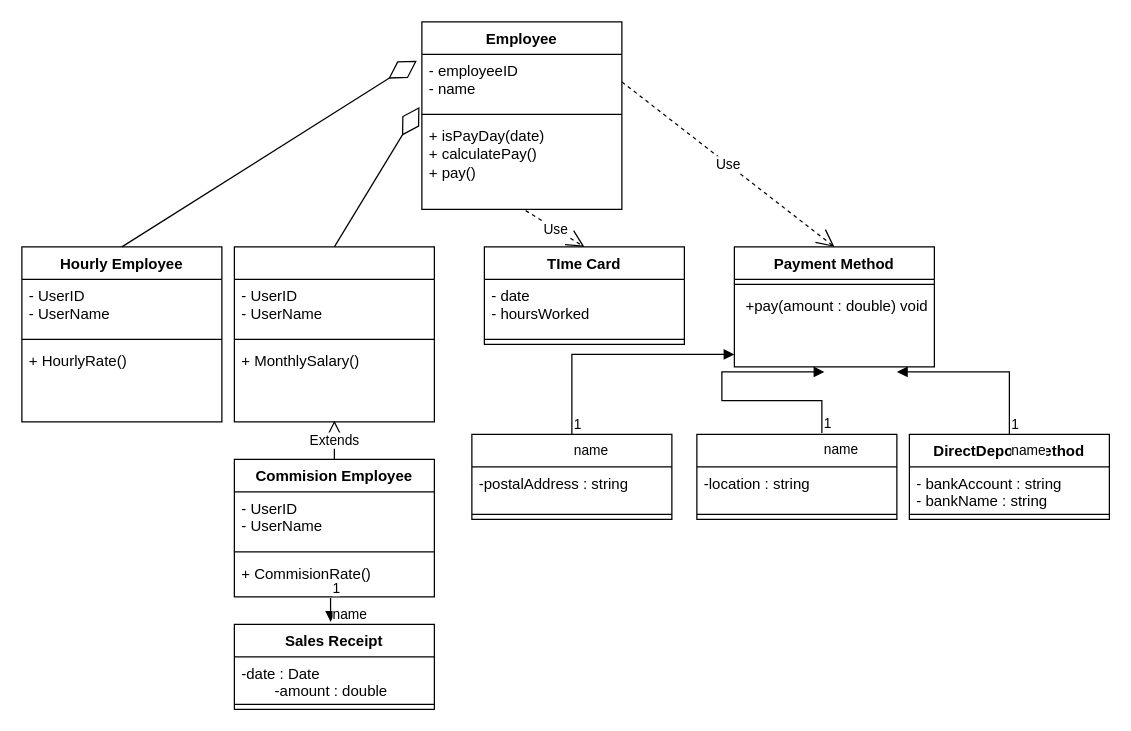
Some shapes in this 1131 by 731 pixel diagram are drawn without their labels. Here are the shapes that lost their labels. From the top down, the box of each, then its label:
(233, 246, 434, 422): Salaried Employee
(471, 433, 672, 519): Mail Method
(696, 433, 897, 519): Hold Method
